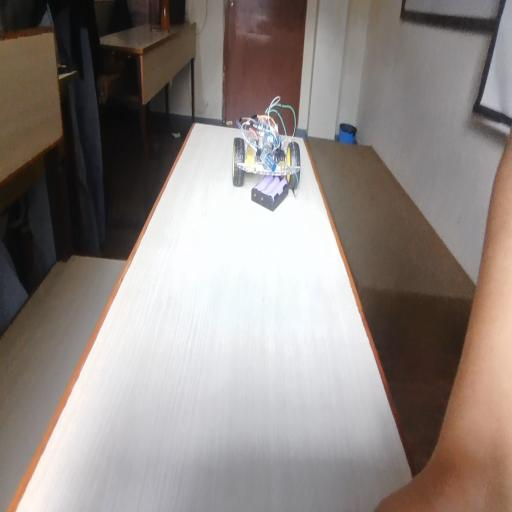car: (219, 97, 331, 228)
